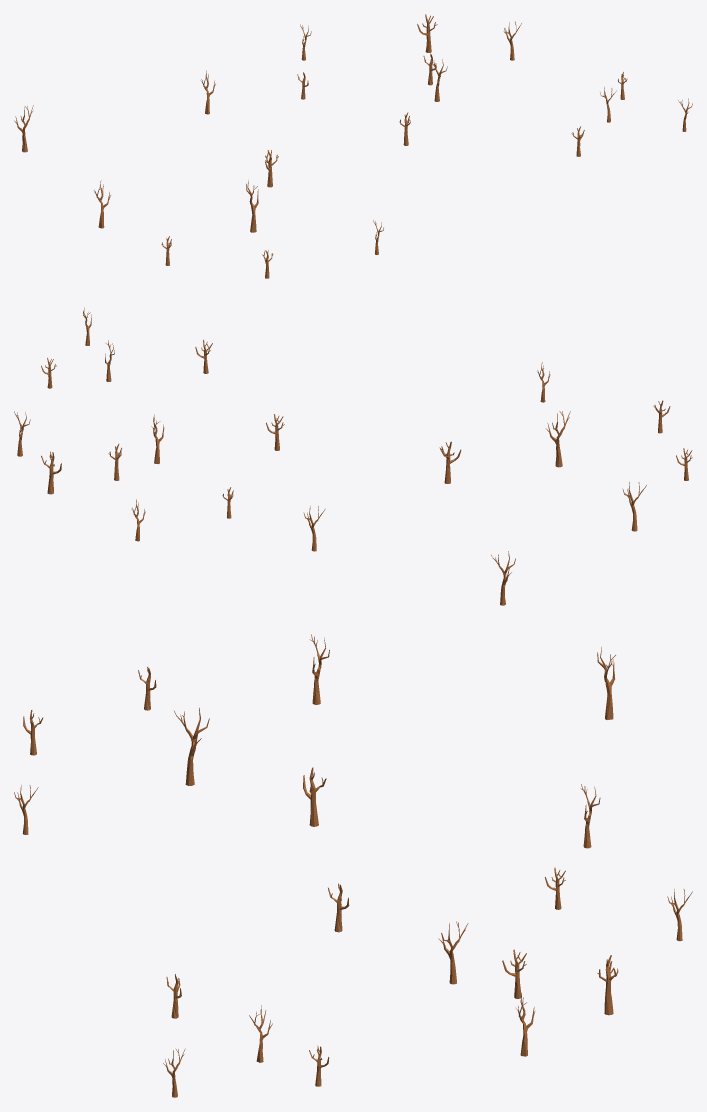
File: trees.glb
The picture shows the model from 3 angles, top to bottom: view 1: azimuth 30°, elevation 25°; view 2: azimuth 150°, elevation 25°; view 3: azimuth 270°, elevation 25°; orthographic projection. The views are drawn at different scales.
Size of the model in its own units: 92.77 by 8.45 by 65.82.
